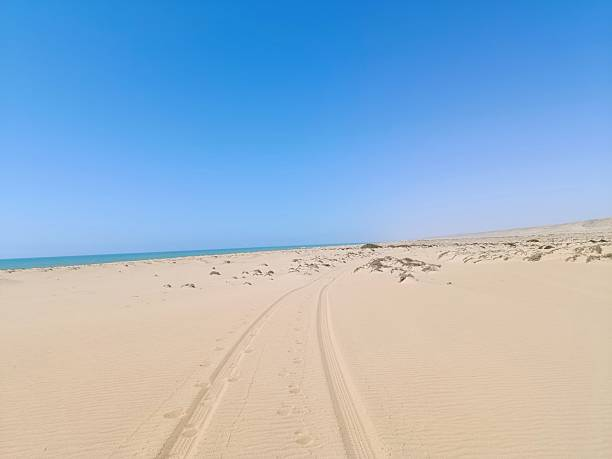vehicle_track: (156, 278, 319, 457), (317, 280, 383, 457)
